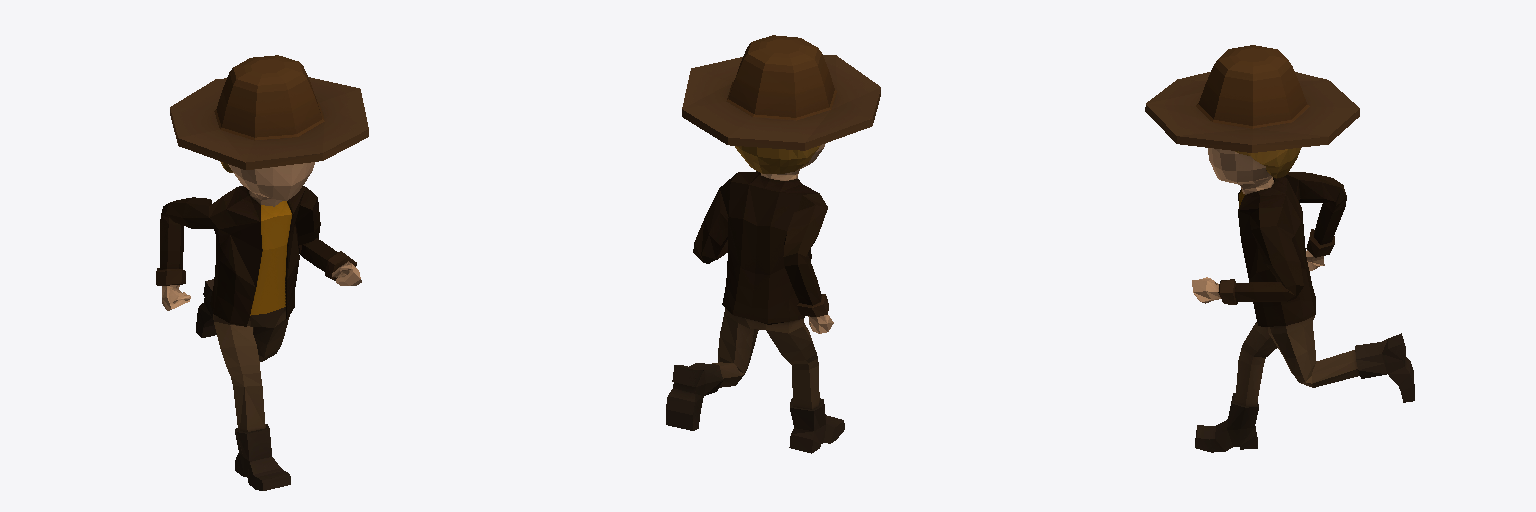
3 renders of one model, left to right at view 1: azimuth 30°, elevation 25°; view 2: azimuth 150°, elevation 25°; view 3: azimuth 270°, elevation 25°, orthographic.
Parts seen in each view (by area): view 1: Character_Cube.007; view 2: Character_Cube.007; view 3: Character_Cube.007.
Boxes of the visible parts, x1=… form: Character_Cube.007: x1=156, y1=55, x2=368, y2=490; Character_Cube.007: x1=666, y1=35, x2=880, y2=453; Character_Cube.007: x1=1145, y1=45, x2=1414, y2=452.
Size of the model in its own units: 7.15 by 15 by 9.14.
1 materials, 1 textured.